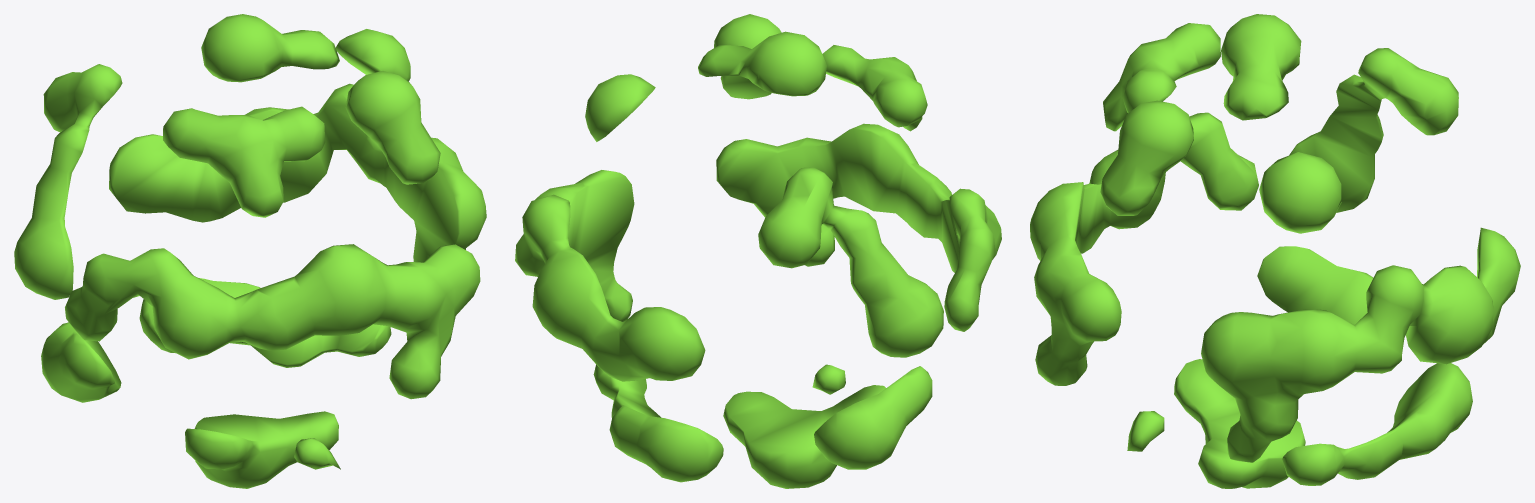
File: p_mesh_drillbot_lavaball_splashshockwave.fbx
3 views of the same model, side by side, from view 1: azimuth 30°, elevation 25°; view 2: azimuth 150°, elevation 25°; view 3: azimuth 270°, elevation 25° (orthographic). The views are drawn at different scales.
Visible parts, largest first — view 1: trashball_goo; view 2: trashball_goo; view 3: trashball_goo.
Part boxes in pixels (bbox=[...]): trashball_goo: bbox=[14, 14, 486, 488]; trashball_goo: bbox=[515, 14, 1001, 488]; trashball_goo: bbox=[1030, 14, 1520, 488].
Size of the model in its own units: 9.13 by 9.43 by 8.95.
